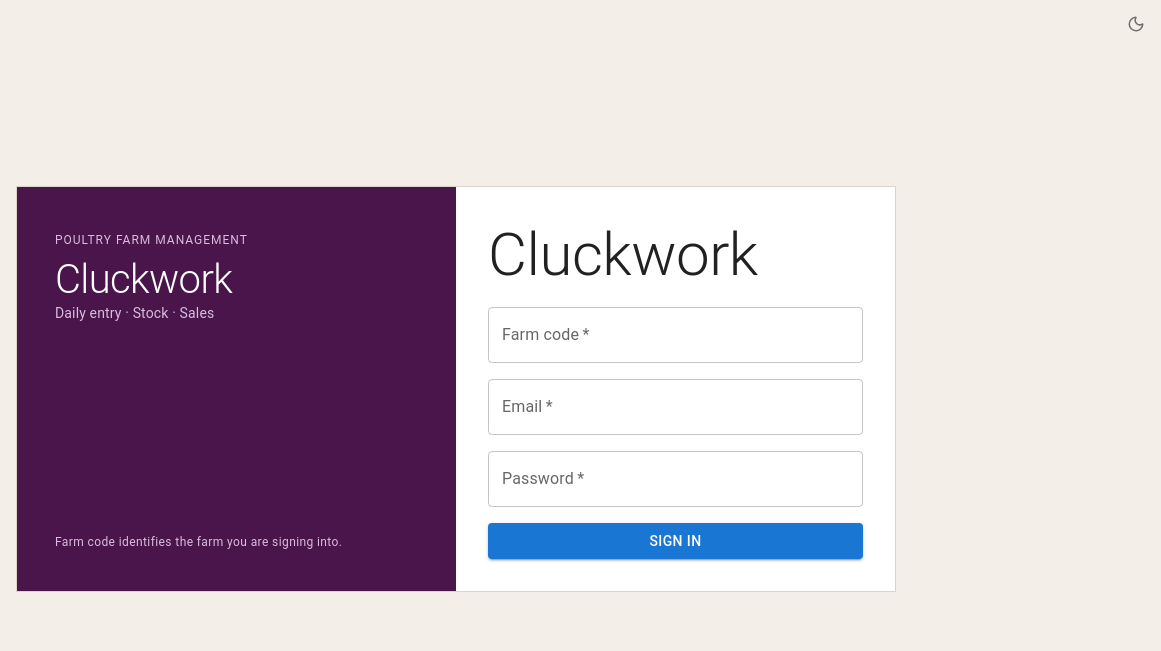
Login › surfaces a farm-level Auth.UnknownFarmCode denial with its own copy, not invalidCredentials
Type "default-farm" into the field labelled "Farm code *" at [676, 335], box [488,307,863,363]
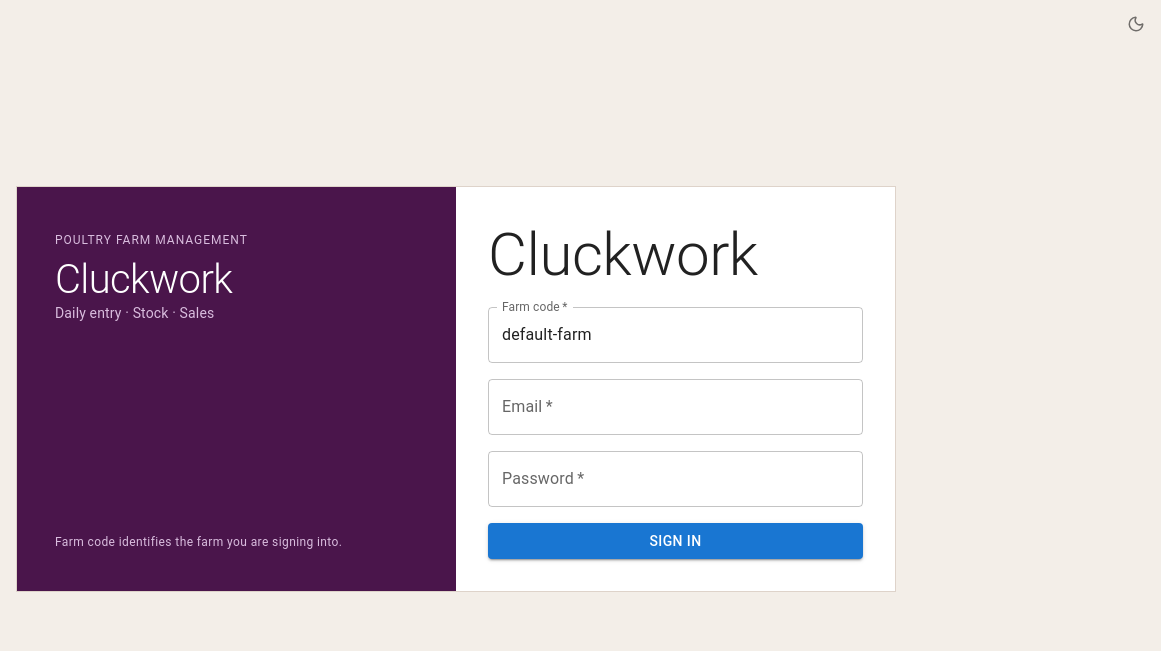
Type "owner@farm.co" into the field labelled "Email *" at [676, 407], box [488,379,863,435]
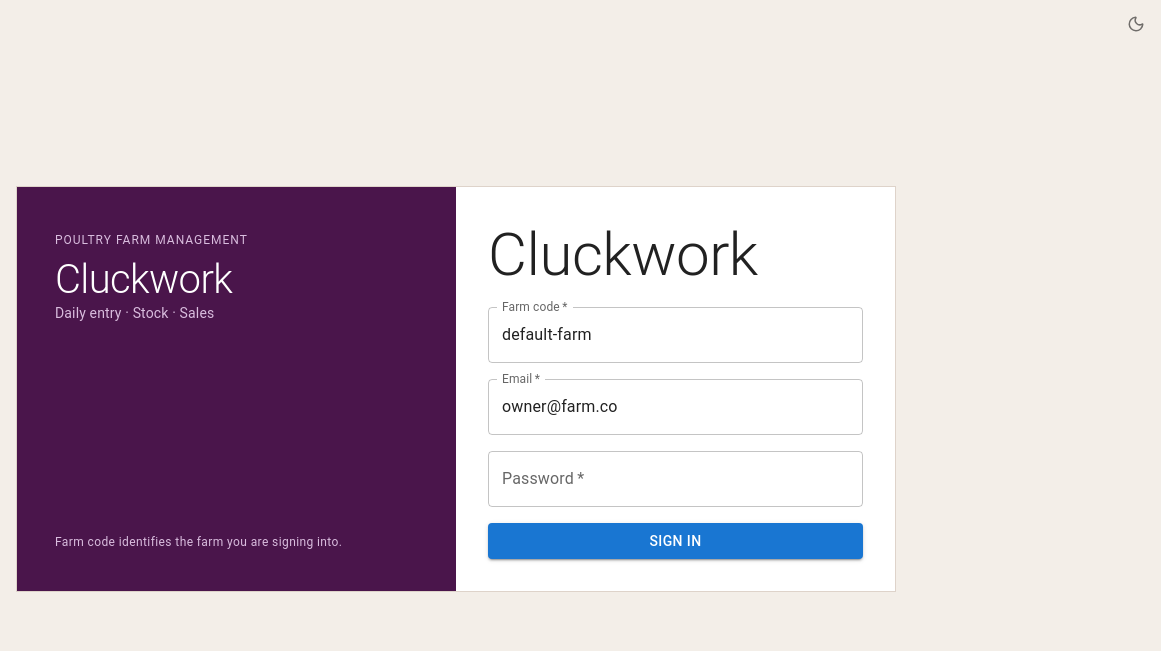
Type "pw" into the password field labelled "Password *" at [676, 479], box [488,451,863,507]
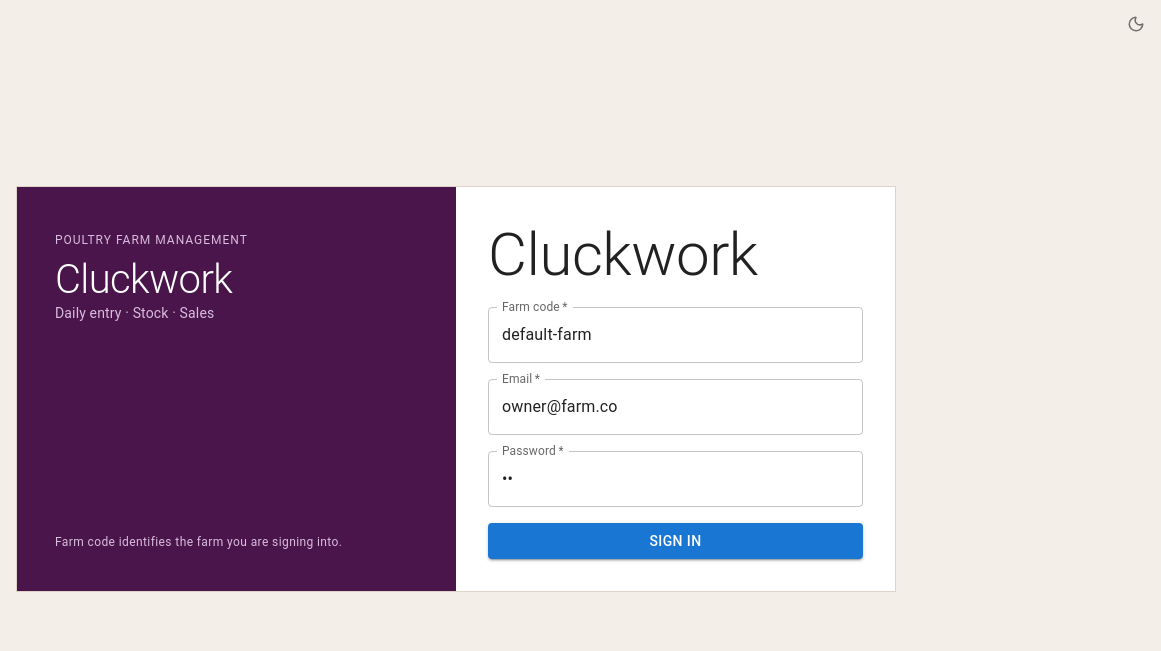
Click the button "Sign in" at [676, 541], box [488,523,863,559]
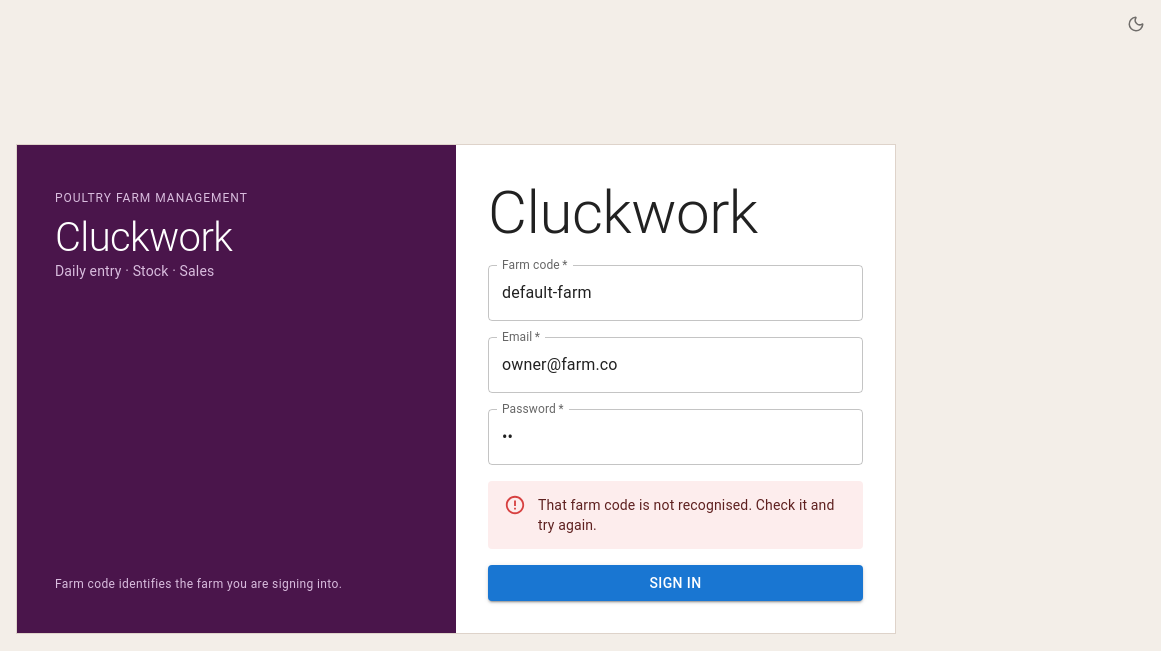
expect the text "That farm code is not recognised. Check it and try again." is shown: met, box [538,487,847,543]
